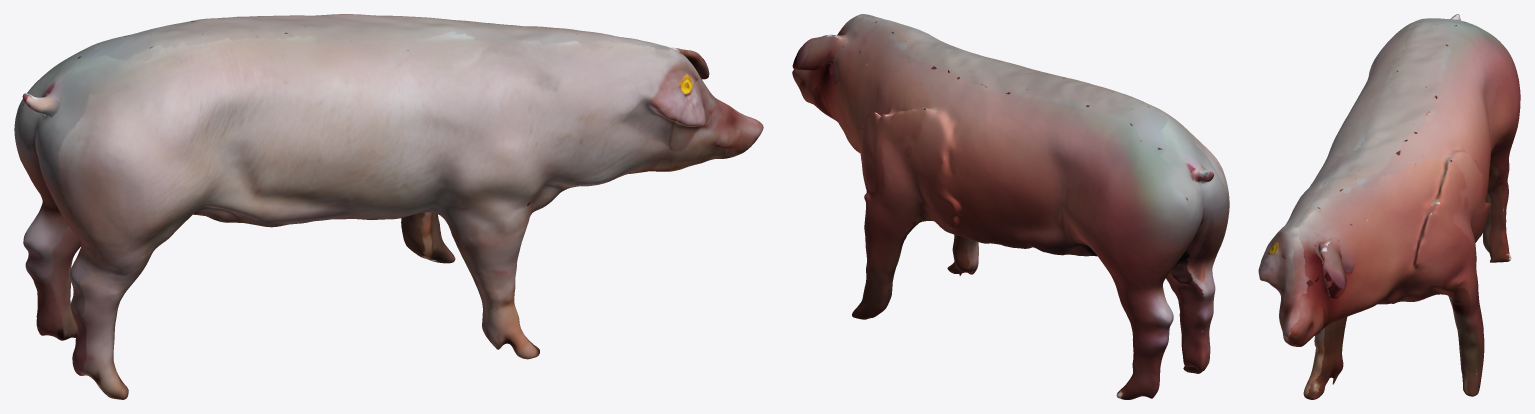
The model's file is joven.glb.
3 renders of one model, left to right at view 1: azimuth 30°, elevation 25°; view 2: azimuth 150°, elevation 25°; view 3: azimuth 270°, elevation 25°, orthographic. The views are drawn at different scales.
Visible parts, largest first — view 1: mesh; view 2: mesh; view 3: mesh.
Boxes of the visible parts, x1=… form: mesh: x1=14, y1=14, x2=763, y2=399; mesh: x1=792, y1=14, x2=1229, y2=399; mesh: x1=1258, y1=14, x2=1520, y2=399.
Size of the model in its own units: 1.83 by 0.9286 by 0.8455.
1 material, 1 textured.
